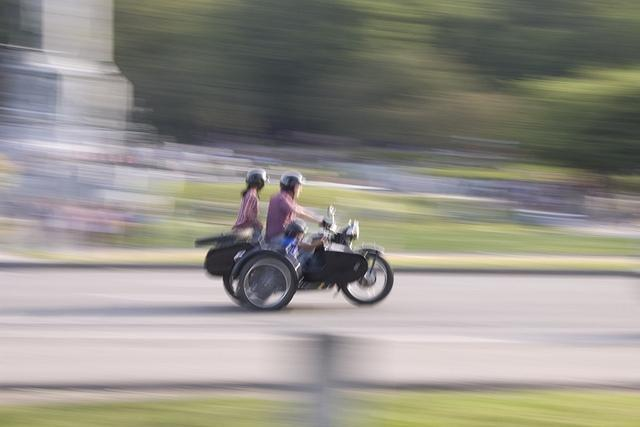motorcycle: (195, 218, 398, 310)
